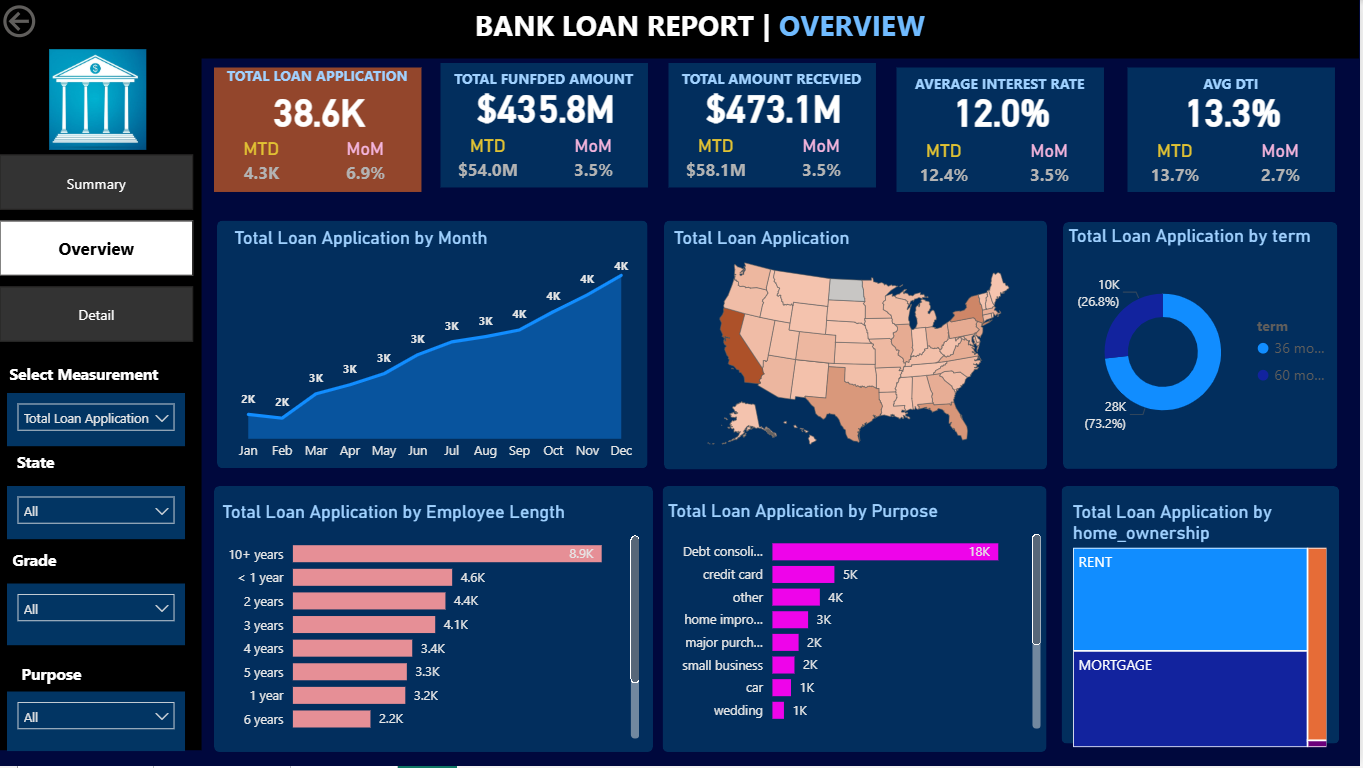

This screenshot's page, from the dashboard's own definition file:
{"tool":"powerbi","page":{"name":"Overview","canvas":[1280,720],"ordinal":1},"visuals":[{"type":"shape","box":[0,0,1279.4,55],"z":0},{"type":"shape","box":[0,40,191.4,665.7],"z":1000},{"type":"textbox","box":[39.1,0,1241,54.7],"z":2000},{"type":"group","id":"g1","title":"Group 1","box":[202.2,56.1,198,123.5],"z":3000,"group":"g4"},{"type":"shape","box":[417.4,59.4,195,117],"z":3000,"group":"g3"},{"type":"shape","box":[631.5,59.4,195,117],"z":3000,"group":"g5"},{"type":"shape","box":[203.2,62.6,195,117],"z":3000,"group":"g2"},{"type":"shape","box":[845.7,62.6,195,117],"z":3000,"group":"g6"},{"type":"shape","box":[1062.9,62.6,195,117],"z":3000,"group":"g7"},{"type":"shape","box":[206.3,207.9,404.8,232.9],"z":3000},{"type":"group","id":"g2","title":"Group 2","box":[202.2,56.1,198,123.5],"z":3001,"group":"g1"},{"type":"actionButton","box":[0,0,100,40],"z":4000},{"type":"group","id":"g3","title":"Group 2","box":[415.8,59.4,198.5,117.2],"z":4000,"group":"g4"},{"type":"card","fields":{"Values":["financial_loan.Total Funded amount"]},"box":[417.4,76.6,196.9,45.3],"z":4000,"group":"g3"},{"type":"card","fields":{"Values":["financial_loan.TOTAL AMOUNT RECEVIED"]},"box":[631.5,76.6,196.9,45.3],"z":4000,"group":"g5"},{"type":"card","fields":{"Values":["financial_loan.Total Loan Application"]},"box":[203.2,79.7,196.9,45.3],"z":4000,"group":"g2"},{"type":"card","fields":{"Values":["financial_loan.Avg Interest Rate"]},"box":[845.7,79.8,196.9,45.3],"z":4000,"group":"g6"},{"type":"card","fields":{"Values":["financial_loan.Avg DTI"]},"box":[1062.9,79.8,196.9,45.3],"z":4000,"group":"g7"},{"type":"group","id":"g4","title":"Group 3","box":[202.2,56.1,1057.6,123.7],"z":5000},{"type":"textbox","box":[202.2,56.1,197.1,47.1],"z":5000,"group":"g2"},{"type":"textbox","box":[415.8,59.4,196.9,40.6],"z":5000,"group":"g3"},{"type":"group","id":"g5","title":"Group 2","box":[629.9,59.4,198.5,117.2],"z":5000,"group":"g4"},{"type":"textbox","box":[629.9,59.4,196.9,40.6],"z":5000,"group":"g5"},{"type":"textbox","box":[844.1,62.6,196.9,40.6],"z":5000,"group":"g6"},{"type":"textbox","box":[1061.3,62.6,196.9,40.6],"z":5000,"group":"g7"},{"type":"group","id":"g6","title":"Group 2","box":[844.1,62.6,198.5,117.2],"z":6000,"group":"g4"},{"type":"card","title":"MTD","fields":{"Values":["financial_loan.MTD FUNDED LOAN"]},"box":[419.9,126.4,82.8,50],"z":6000,"group":"g3"},{"type":"card","title":"MTD","fields":{"Values":["financial_loan.MTD Amount Recevied"]},"box":[634,126.4,82.8,50],"z":6000,"group":"g5"},{"type":"card","title":"MTD","fields":{"Values":["financial_loan.Month Loan application"]},"box":[205.8,129.5,82.8,50],"z":6000,"group":"g2"},{"type":"card","title":"MTD","fields":{"Values":["financial_loan.MTD Avg Int_Rate"]},"box":[848.2,129.6,82.8,50],"z":6000,"group":"g6"},{"type":"card","title":"MTD","fields":{"Values":["financial_loan.MTD Avg Dti"]},"box":[1065.4,129.6,82.8,50],"z":6000,"group":"g7"},{"type":"slicer","fields":{"Values":["financial_loan.address_state"]},"box":[7.8,456.4,167.2,50],"z":6000},{"type":"group","id":"g7","title":"Group 2","box":[1061.3,62.6,198.5,117.2],"z":7000,"group":"g4"},{"type":"card","title":"MoM","fields":{"Values":["financial_loan.MOM Amount Received"]},"box":[518.4,126.4,84,50],"z":7000,"group":"g3"},{"type":"card","title":"MoM","fields":{"Values":["financial_loan.MOM Amount Received"]},"box":[732.5,126.4,84,50],"z":7000,"group":"g5"},{"type":"card","title":"MoM","fields":{"Values":["financial_loan.MOM"]},"box":[304.2,129.5,84,50],"z":7000,"group":"g2"},{"type":"card","title":"MoM","fields":{"Values":["financial_loan.MOM Avg Int_Rate"]},"box":[946.7,129.6,84,50],"z":7000,"group":"g6"},{"type":"card","title":"MoM","fields":{"Values":["financial_loan.MoM Avg Dti"]},"box":[1163.9,129.6,84,50],"z":7000,"group":"g7"},{"type":"textbox","box":[12.5,418.9,89.1,43.8],"z":7000},{"type":"slicer","fields":{"Values":["financial_loan.grade"]},"box":[7.8,548.6,167.2,57.8],"z":8000},{"type":"slicer","fields":{"Values":["financial_loan.purpose"]},"box":[7.8,650.2,167.2,56.3],"z":9000},{"type":"textbox","box":[7.8,511.1,101.6,51.6],"z":10000},{"type":"textbox","box":[17.2,617.4,92.2,43.8],"z":11000},{"type":"slicer","fields":{"Values":["Select Measuement.Select Measuement"]},"box":[7.8,368.9,167.2,50],"z":12000},{"type":"textbox","box":[6.3,336,168.8,37.5],"z":13000},{"type":"areaChart","fields":{"Y":["financial_loan.Total Loan Application"],"Category":["Date Table.Month"]},"box":[217.3,212.6,386.1,228.2],"z":14000},{"type":"shape","box":[625.7,207.1,360,234.3],"z":15000},{"type":"shape","box":[1001,208.4,257.9,232.3],"z":16000},{"type":"donutChart","fields":{"Y":["financial_loan.Total Loan Application"],"Category":["financial_loan.term"]},"box":[1001,211.8,263.1,218.6],"z":17000},{"type":"shapeMap","fields":{"Category":["financial_loan.address_state"]},"box":[629.9,212.6,356.4,218.8],"z":18000},{"type":"shape","box":[203.2,456.4,412.6,250.1],"z":19000},{"type":"clusteredBarChart","fields":{"Y":["financial_loan.Total Loan Application"],"Category":["financial_loan.emp_length"]},"box":[206.3,470.5,401.7,228.2],"z":20000},{"type":"shape","box":[625.2,456.4,361.1,250.1],"z":21000},{"type":"shape","box":[1000.3,456.4,261,242.3],"z":22000},{"type":"clusteredBarChart","fields":{"Y":["financial_loan.Total Loan Application"],"Category":["financial_loan.purpose"]},"box":[625.2,469.8,360.4,220.4],"z":23000},{"type":"treemap","fields":{"Values":["financial_loan.Total Loan Application"],"Group":["financial_loan.home_ownership"]},"box":[1005,470.5,248.5,236],"z":24000},{"type":"pageNavigator","box":[1.6,145.4,182.9,178.2],"z":24001},{"type":"image","box":[1.6,40.6,184.4,104.7],"z":24002}]}

Visuals, with their boxes in screenshot pixels (x1, y1, x2, y2), scaled from the page's 1280x720 canvas onto the 1363x768 screenshot:
shape: x1=0 y1=0 x2=1362 y2=59
shape: x1=0 y1=43 x2=204 y2=753
textbox: x1=42 y1=0 x2=1362 y2=58
"Group 1" group: x1=215 y1=60 x2=426 y2=192
shape: x1=444 y1=63 x2=652 y2=188
shape: x1=672 y1=63 x2=880 y2=188
shape: x1=216 y1=67 x2=424 y2=192
shape: x1=901 y1=67 x2=1108 y2=192
shape: x1=1132 y1=67 x2=1339 y2=192
shape: x1=220 y1=222 x2=651 y2=470
"Group 2" group: x1=215 y1=60 x2=426 y2=192
actionButton: x1=0 y1=0 x2=106 y2=43
"Group 2" group: x1=443 y1=63 x2=654 y2=188
card - financial_loan.Total Funded amount: x1=444 y1=82 x2=654 y2=130
card - financial_loan.TOTAL AMOUNT RECEVIED: x1=672 y1=82 x2=882 y2=130
card - financial_loan.Total Loan Application: x1=216 y1=85 x2=426 y2=133
card - financial_loan.Avg Interest Rate: x1=901 y1=85 x2=1110 y2=133
card - financial_loan.Avg DTI: x1=1132 y1=85 x2=1341 y2=133
"Group 3" group: x1=215 y1=60 x2=1341 y2=192
textbox: x1=215 y1=60 x2=425 y2=110
textbox: x1=443 y1=63 x2=652 y2=107
"Group 2" group: x1=671 y1=63 x2=882 y2=188
textbox: x1=671 y1=63 x2=880 y2=107
textbox: x1=899 y1=67 x2=1109 y2=110
textbox: x1=1130 y1=67 x2=1340 y2=110
"Group 2" group: x1=899 y1=67 x2=1110 y2=192
"MTD" card: x1=447 y1=135 x2=535 y2=188
"MTD" card: x1=675 y1=135 x2=763 y2=188
"MTD" card: x1=219 y1=138 x2=307 y2=191
"MTD" card: x1=903 y1=138 x2=991 y2=192
"MTD" card: x1=1134 y1=138 x2=1223 y2=192
slicer - financial_loan.address_state: x1=8 y1=487 x2=186 y2=540
"Group 2" group: x1=1130 y1=67 x2=1341 y2=192
"MoM" card: x1=552 y1=135 x2=641 y2=188
"MoM" card: x1=780 y1=135 x2=869 y2=188
"MoM" card: x1=324 y1=138 x2=413 y2=191
"MoM" card: x1=1008 y1=138 x2=1098 y2=192
"MoM" card: x1=1239 y1=138 x2=1329 y2=192
textbox: x1=13 y1=447 x2=108 y2=494
slicer - financial_loan.grade: x1=8 y1=585 x2=186 y2=647
slicer - financial_loan.purpose: x1=8 y1=694 x2=186 y2=754
textbox: x1=8 y1=545 x2=116 y2=600
textbox: x1=18 y1=659 x2=116 y2=705
slicer - Select Measuement.Select Measuement: x1=8 y1=393 x2=186 y2=447
textbox: x1=7 y1=358 x2=186 y2=398
areaChart - financial_loan.Total Loan Application x Date Table.Month: x1=231 y1=227 x2=643 y2=470
shape: x1=666 y1=221 x2=1050 y2=471
shape: x1=1066 y1=222 x2=1341 y2=470
donutChart - financial_loan.Total Loan Application x financial_loan.term: x1=1066 y1=226 x2=1346 y2=459
shapeMap - financial_loan.address_state: x1=671 y1=227 x2=1050 y2=460
shape: x1=216 y1=487 x2=656 y2=754
clusteredBarChart - financial_loan.Total Loan Application x financial_loan.emp_length: x1=220 y1=502 x2=647 y2=745
shape: x1=666 y1=487 x2=1050 y2=754
shape: x1=1065 y1=487 x2=1343 y2=745
clusteredBarChart - financial_loan.Total Loan Application x financial_loan.purpose: x1=666 y1=501 x2=1050 y2=736
treemap - financial_loan.Total Loan Application x financial_loan.home_ownership: x1=1070 y1=502 x2=1335 y2=754
pageNavigator: x1=2 y1=155 x2=196 y2=345
image: x1=2 y1=43 x2=198 y2=155
